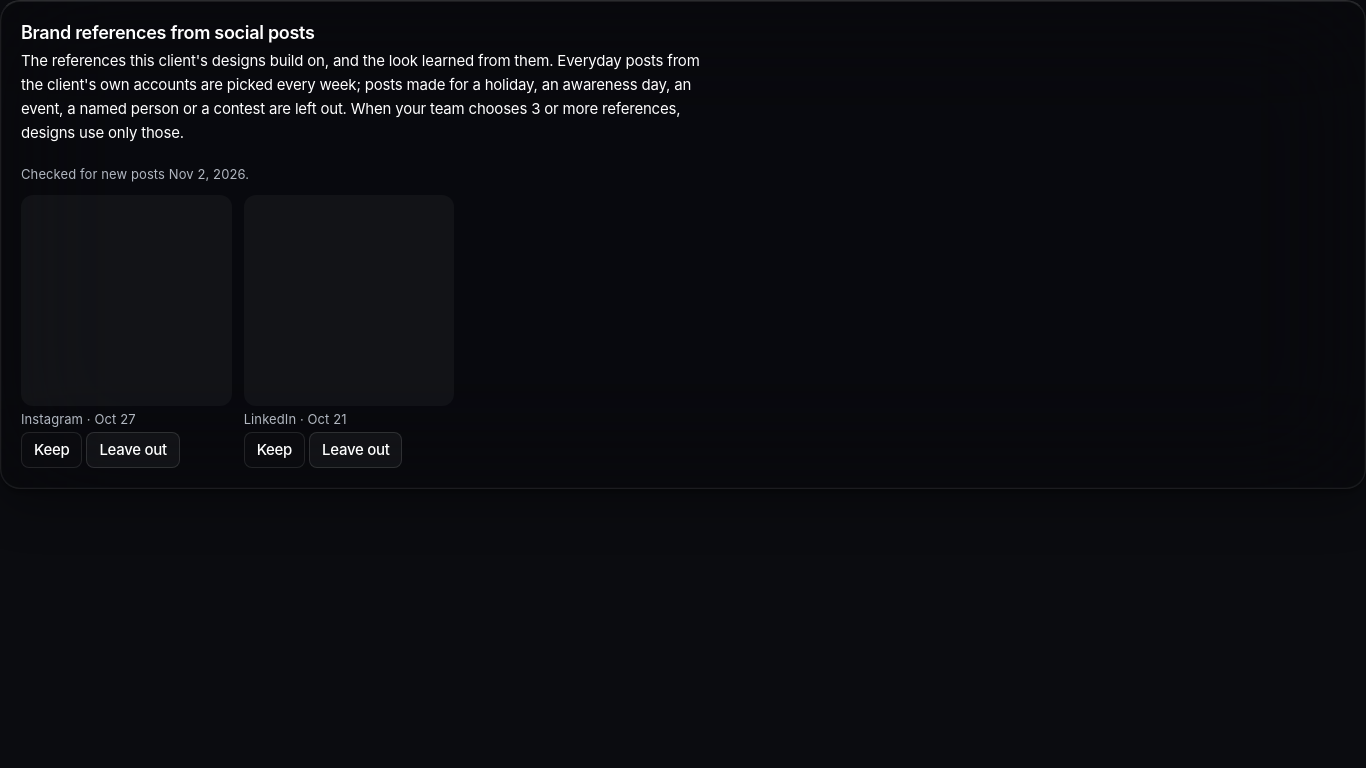
Scenario: keeps a saved choice shown when an earlier, separate choice is refused
Click the button "Keep" below "Instagram · Oct 27". click: (52, 450)
box: [21,432,82,468]
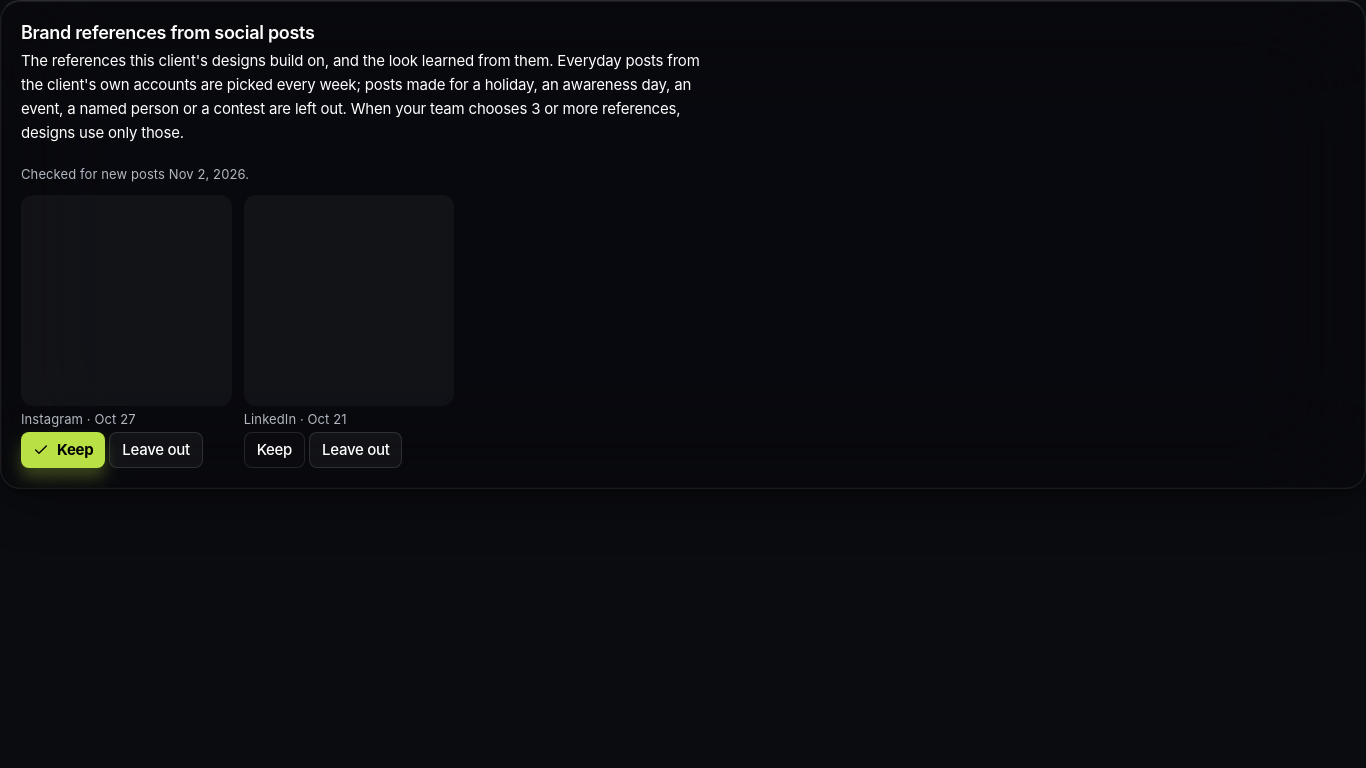
Click the button "Keep" below "LinkedIn · Oct 21". click: (274, 450)
box: [244,432,305,468]
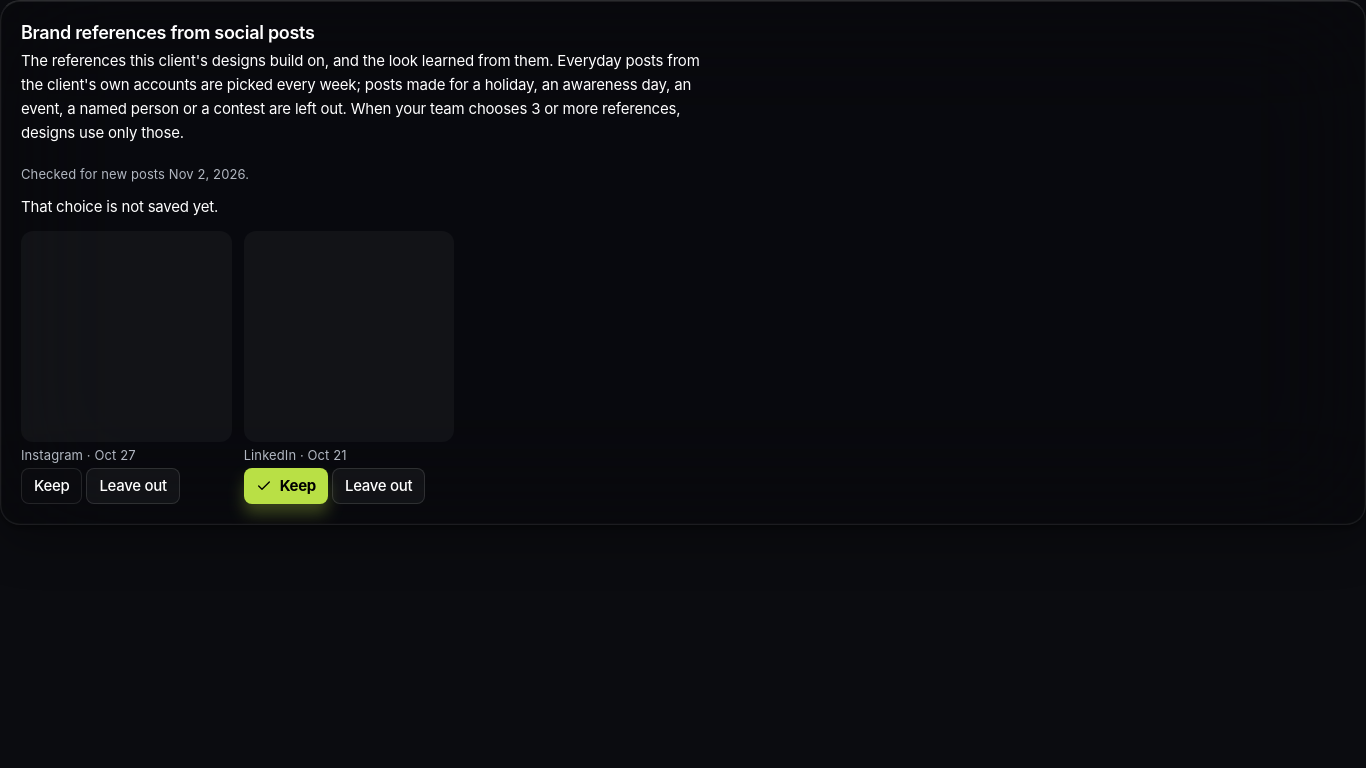
Result: the text "That choice is not saved yet." is shown at [21,197,218,216]
